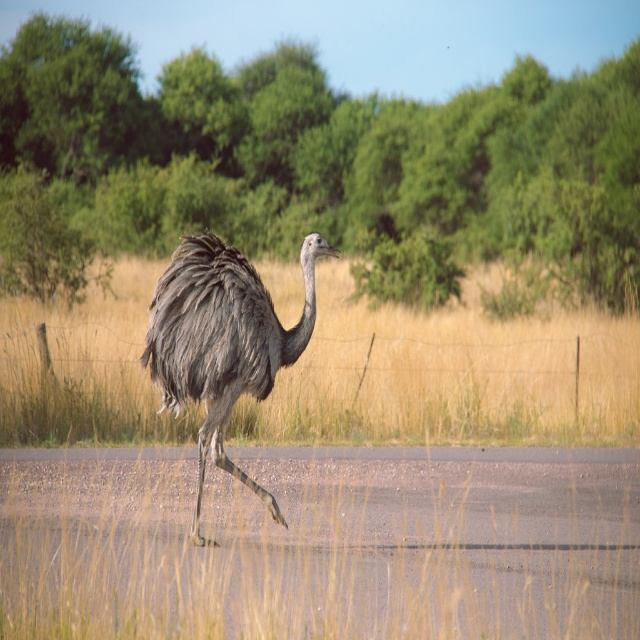Ostrich: (134, 162, 356, 576)
